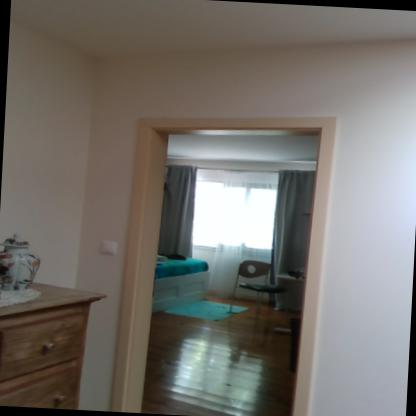open: (99, 97, 344, 415)
